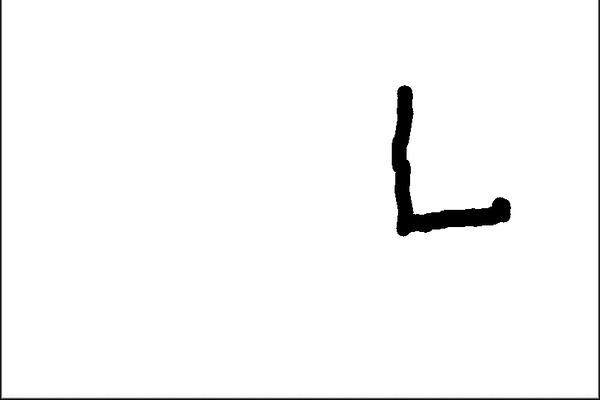L: (385, 77, 519, 240)
